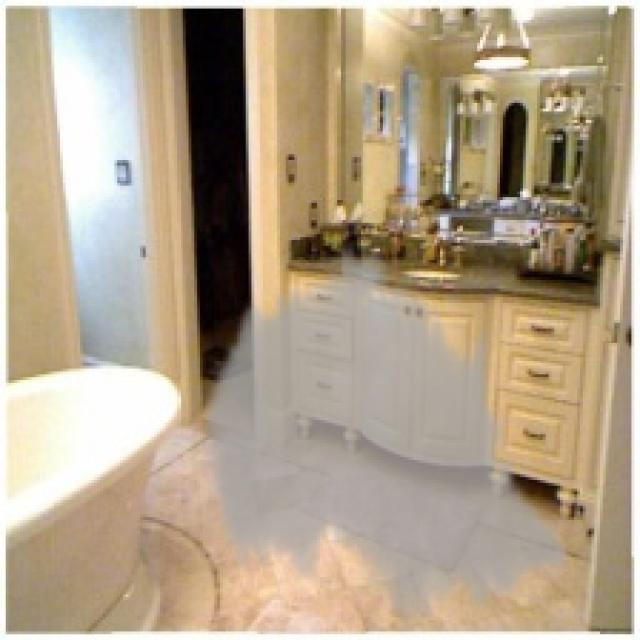smoke: (200, 237, 571, 637)
